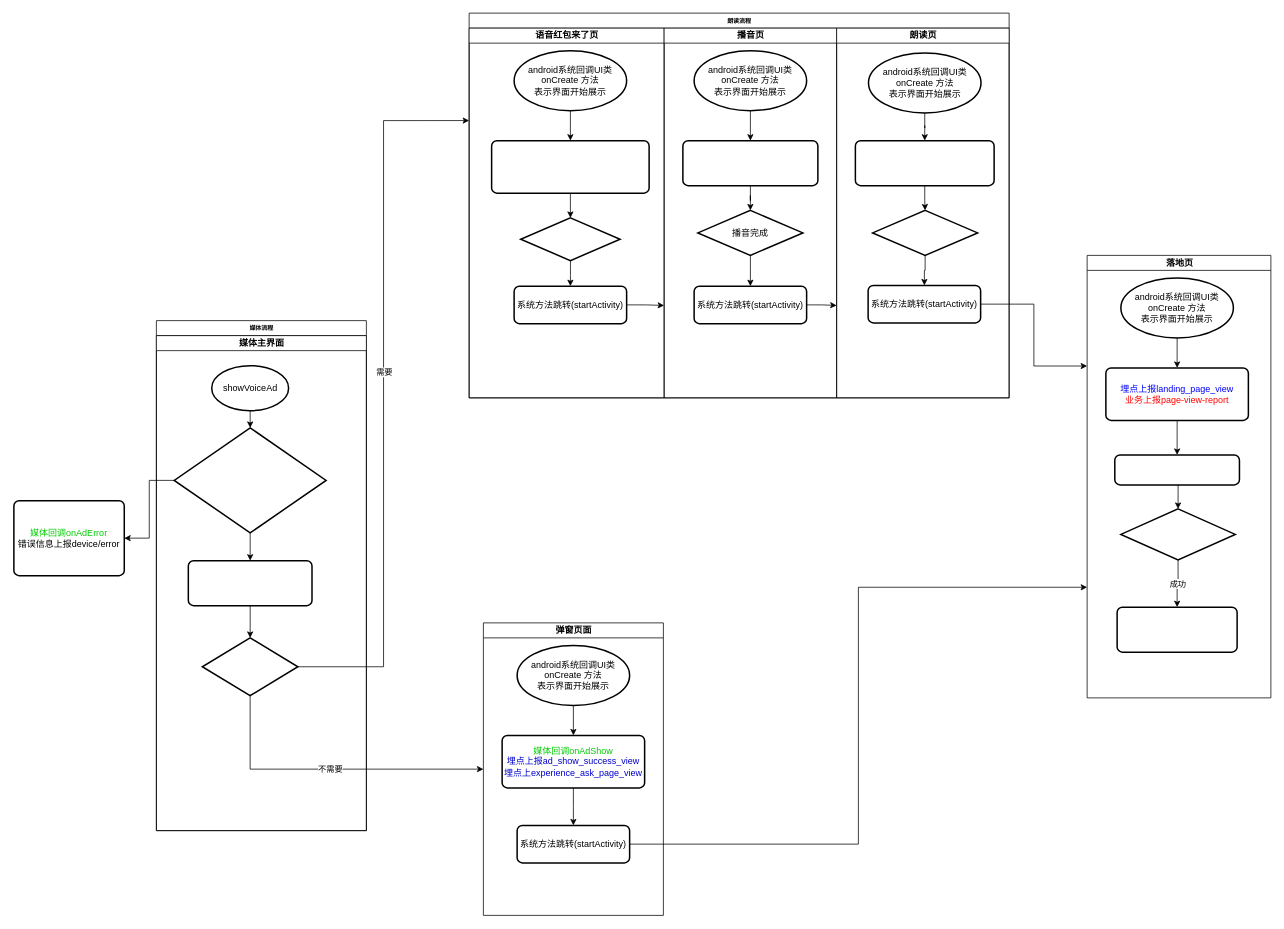
Some shapes in this 1284 by 929 pixel diagram are drawn without their labels. Here are the shapes that lost their labels. From the top down, the centre of each, then its label:
At (570,167): "媒体回调onAdShow 埋点上ad_enter_animation_page_view".
At (750,163): "埋点上报ad_show_success_view 埋点上报introduce_page_view 业务上报introduce-view-report".
At (924,163): "埋点上报new_reading_page_view 业务上报reading-page-view-report".
At (570,239): "播音+动画完成".
At (925,232): "朗读完成".
At (249,480): "已加载&& 没有广告正在展示&& 奖励设置正确&& advert-check校验成功".
At (1177,469): "业务上报landing-success".
At (1178,534): "接口返回".
At (249,583): "埋点上报ad_show_view 业务上报advert-detail-show".
At (1177,629): "媒体回调onRewardVerify".
At (249,666): "是否需要朗读".
